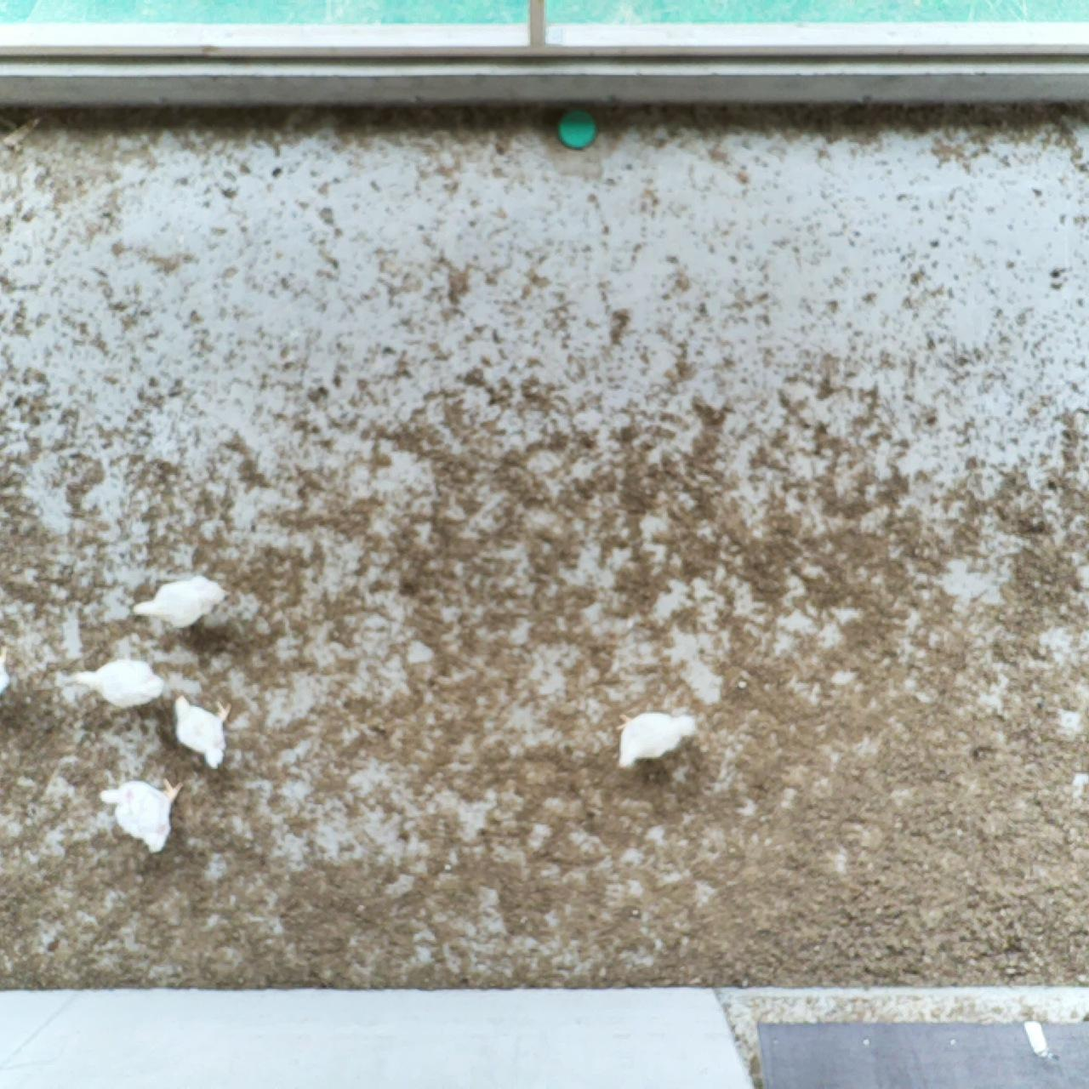chicken: (96, 776, 183, 856), (133, 571, 232, 631), (165, 688, 234, 771), (610, 708, 700, 770), (72, 659, 168, 707), (0, 643, 17, 699)
